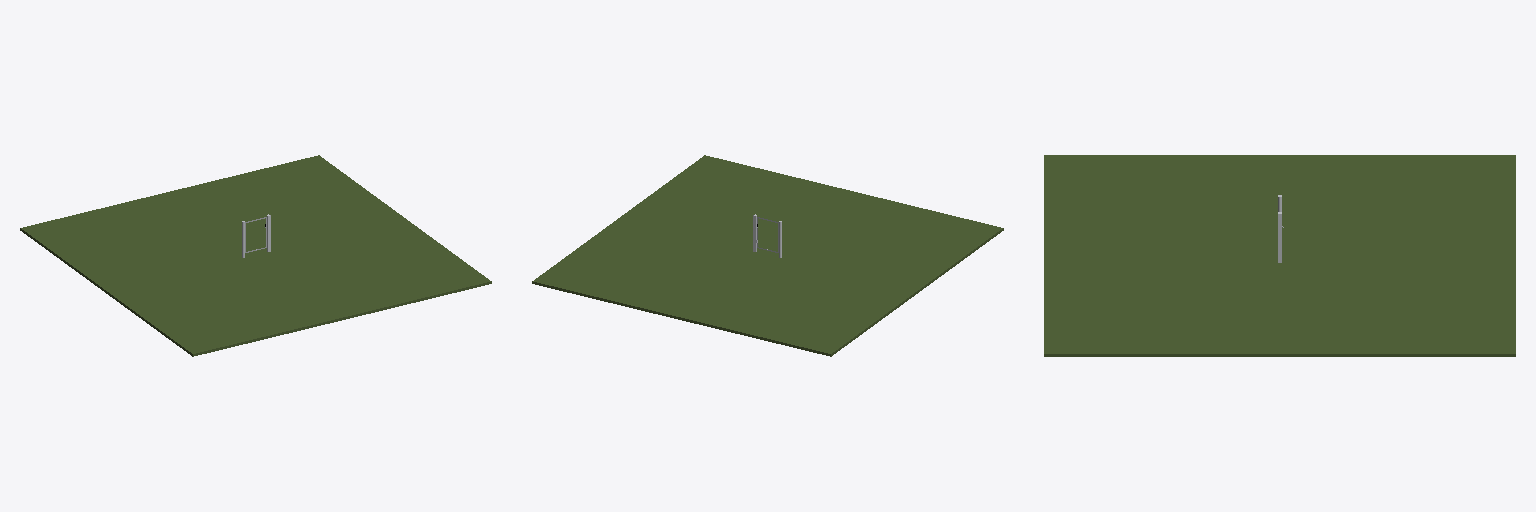
The robot description file, URDF, robot "db0877_gate_swing_minimal":
<?xml version="1.0" ?>
<robot xmlns:doorbench="https://github.com/adamraudonis/DoorBench/schema/urdf-ext" name="db0877_gate_swing_minimal">
  <link name="world_env">
    <visual name="floor_vis">
      <origin xyz="0 0 -0.05" rpy="0 0 0"/>
      <geometry>
        <box size="12 12 0.1"/>
      </geometry>
      <material name="mat_floor"/>
    </visual>
    <collision name="floor_col">
      <origin xyz="0 0 -0.05" rpy="0 0 0"/>
      <geometry>
        <box size="12 12 0.1"/>
      </geometry>
    </collision>
    <visual name="post_hinge_vis">
      <origin xyz="-0.506 0 0.7" rpy="0 0 0"/>
      <geometry>
        <cylinder radius="0.05" length="1.4"/>
      </geometry>
      <material name="mat_frame"/>
    </visual>
    <collision name="post_hinge_col">
      <origin xyz="-0.506 0 0.7" rpy="0 0 0"/>
      <geometry>
        <cylinder radius="0.05" length="1.4"/>
      </geometry>
    </collision>
    <visual name="post_latch_vis">
      <origin xyz="0.506 0 0.7" rpy="0 0 0"/>
      <geometry>
        <box size="0.1 0.1 1.4"/>
      </geometry>
      <material name="mat_frame"/>
    </visual>
    <collision name="post_latch_col">
      <origin xyz="0.506 0 0.7" rpy="0 0 0"/>
      <geometry>
        <box size="0.1 0.1 1.4"/>
      </geometry>
    </collision>
    <visual name="gate_stop_vis">
      <origin xyz="0.436 0.0135 0.4" rpy="0 0 0"/>
      <geometry>
        <box size="0.04 0.024 0.12"/>
      </geometry>
      <material name="mat_frame"/>
    </visual>
    <collision name="gate_stop_col">
      <origin xyz="0.436 0.0135 0.4" rpy="0 0 0"/>
      <geometry>
        <box size="0.04 0.024 0.12"/>
      </geometry>
    </collision>
  </link>
  <link name="leaf">
    <inertial>
      <origin xyz="0.498818 0.055838 0.773754" rpy="0 0 0"/>
      <mass value="6.215232"/>
      <inertia ixx="0.685116091" ixy="-0.013105409" ixz="-0.053322981" iyy="1.162528821" iyz="-0.006361981" izz="0.481202472"/>
    </inertial>
    <collision name="leaf_slab_col_col">
      <origin xyz="0.45 0.05 0.75" rpy="0 0 0"/>
      <geometry>
        <box size="0.9 0.003 1.2"/>
      </geometry>
    </collision>
    <visual name="leaf_rail_b_vis">
      <origin xyz="0.45 0.05 0.1725" rpy="0 0 0"/>
      <geometry>
        <box size="0.9 0.003 0.045"/>
      </geometry>
      <material name="mat_leaf"/>
    </visual>
    <visual name="leaf_rail_t_vis">
      <origin xyz="0.45 0.05 1.3275" rpy="0 0 0"/>
      <geometry>
        <box size="0.9 0.003 0.045"/>
      </geometry>
      <material name="mat_leaf"/>
    </visual>
    <visual name="leaf_stile_h_vis">
      <origin xyz="0.0225 0.05 0.75" rpy="0 0 0"/>
      <geometry>
        <box size="0.045 0.003 1.2"/>
      </geometry>
      <material name="mat_leaf"/>
    </visual>
    <visual name="leaf_stile_l_vis">
      <origin xyz="0.8775 0.05 0.75" rpy="0 0 0"/>
      <geometry>
        <box size="0.045 0.003 1.2"/>
      </geometry>
      <material name="mat_leaf"/>
    </visual>
    <visual name="leaf_cup_n_vis">
      <origin xyz="0.86 0.0745 0.955" rpy="0 0 0"/>
      <geometry>
        <box size="0.032 0.008 0.04"/>
      </geometry>
      <material name="mat_keeper"/>
    </visual>
    <collision name="leaf_cup_n_col">
      <origin xyz="0.86 0.0745 0.955" rpy="0 0 0"/>
      <geometry>
        <box size="0.032 0.008 0.04"/>
      </geometry>
    </collision>
    <visual name="leaf_cup_p_vis">
      <origin xyz="0.86 0.0985 0.955" rpy="0 0 0"/>
      <geometry>
        <box size="0.032 0.008 0.04"/>
      </geometry>
      <material name="mat_keeper"/>
    </visual>
    <collision name="leaf_cup_p_col">
      <origin xyz="0.86 0.0985 0.955" rpy="0 0 0"/>
      <geometry>
        <box size="0.032 0.008 0.04"/>
      </geometry>
    </collision>
    <visual name="leaf_cup_b_vis">
      <origin xyz="0.86 0.0865 0.931" rpy="0 0 0"/>
      <geometry>
        <box size="0.032 0.032 0.008"/>
      </geometry>
      <material name="mat_keeper"/>
    </visual>
    <collision name="leaf_cup_b_col">
      <origin xyz="0.86 0.0865 0.931" rpy="0 0 0"/>
      <geometry>
        <box size="0.032 0.032 0.008"/>
      </geometry>
    </collision>
    <visual name="leaf_cup_ramp_vis">
      <origin xyz="0.86 0.122344 0.952012" rpy="-0.726642 0 0"/>
      <geometry>
        <box size="0.032 0.0602 0.008"/>
      </geometry>
      <material name="mat_keeper"/>
    </visual>
    <collision name="leaf_cup_ramp_col">
      <origin xyz="0.86 0.122344 0.952012" rpy="-0.726642 0 0"/>
      <geometry>
        <box size="0.032 0.0602 0.008"/>
      </geometry>
    </collision>
  </link>
  <link name="leaf_pin">
    <inertial>
      <origin xyz="0 0 0.037519" rpy="0 0 0"/>
      <mass value="0.228168"/>
      <inertia ixx="0.000346413" ixy="0" ixz="0" iyy="0.000346413" iyz="0" izz="0.000010167"/>
    </inertial>
    <visual name="leaf_pin_geom_vis">
      <origin xyz="0 0 0.0025" rpy="0 0 0"/>
      <geometry>
        <cylinder radius="0.006" length="0.105"/>
      </geometry>
      <material name="mat_op_black_matte_metal"/>
    </visual>
    <collision name="leaf_pin_geom_col">
      <origin xyz="0 0 0.0025" rpy="0 0 0"/>
      <geometry>
        <cylinder radius="0.006" length="0.105"/>
      </geometry>
    </collision>
    <visual name="leaf_pin_knob_vis">
      <origin xyz="0 0 0.065" rpy="0 0 0"/>
      <geometry>
        <cylinder radius="0.012" length="0.02"/>
      </geometry>
      <material name="mat_op_black_matte_metal"/>
    </visual>
    <collision name="leaf_pin_knob_col">
      <origin xyz="0 0 0.065" rpy="0 0 0"/>
      <geometry>
        <cylinder radius="0.012" length="0.02"/>
      </geometry>
    </collision>
  </link>
  <joint name="leaf_hinge" type="revolute">
    <origin xyz="-0.453 -0.05 0" rpy="0 0 0"/>
    <parent link="world_env"/>
    <child link="leaf"/>
    <axis xyz="0 0 -1"/>
    <limit lower="0" upper="1.570796" effort="2000" velocity="10"/>
    <dynamics damping="8.14219" friction="0.993093"/>
    <doorbench:spring stiffness="5" springref="-0.8" note="tau = -stiffness*(q - springref); not native URDF"/>
    <doorbench:closer damping_closing="54" damping_opening="8" backcheck_angle="0" backcheck_damping="0"/>
  </joint>
  <joint name="leaf_pin_slide" type="prismatic">
    <origin xyz="0.407 0.0365 1" rpy="0 0 0"/>
    <parent link="world_env"/>
    <child link="leaf_pin"/>
    <axis xyz="0 0 1"/>
    <limit lower="0" upper="0.06" effort="5000" velocity="10"/>
    <dynamics damping="9.526824" friction="0.25"/>
    <doorbench:spring stiffness="60" springref="-0.016667" note="tau = -stiffness*(q - springref); not native URDF"/>
  </joint>
  <material name="mat_floor">
    <color rgba="0.35 0.42 0.25 1"/>
  </material>
  <material name="mat_frame">
    <color rgba="0.8 0.81 0.83 1"/>
  </material>
  <material name="mat_keeper">
    <color rgba="0.65 0.66 0.68 1"/>
  </material>
  <material name="mat_leaf">
    <color rgba="0.7 0.71 0.72 1"/>
  </material>
  <material name="mat_op_black_matte_metal">
    <color rgba="0.05 0.05 0.05 1"/>
  </material>
</robot>

--- Render facts (derived) ---
3 views of the same robot in one strip: view 1: azimuth 30°, elevation 25°; view 2: azimuth 150°, elevation 25°; view 3: azimuth 270°, elevation 25° (orthographic).
Robot: db0877_gate_swing_minimal — 3 links, 2 joints (1 revolute, 1 prismatic); root link world_env; default pose: all joints at 0.
Links seen in each view (by area): view 1: world_env; view 2: world_env; view 3: world_env.
Boxes of the visible links, left/top/right/bottom form: world_env: left=20, top=155, right=491, bottom=356; world_env: left=532, top=155, right=1003, bottom=356; world_env: left=1044, top=155, right=1515, bottom=356.
Bounding box of the posed robot: 12 × 12 × 1.5 m (x, y, z).
Geometry: primitives only (box / cylinder / sphere), no mesh files.
